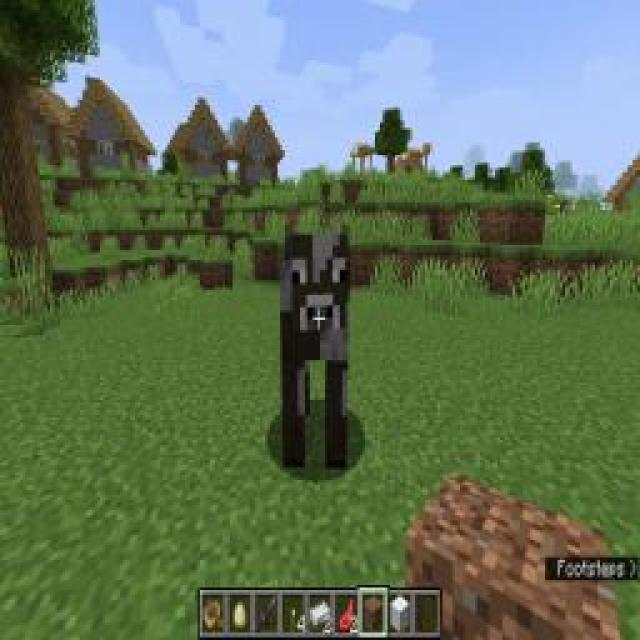Cow: (276, 218, 354, 472)
